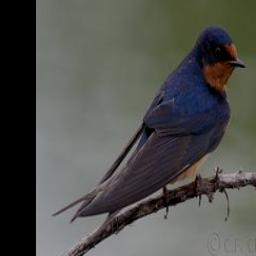Swallow: (51, 22, 247, 225)
